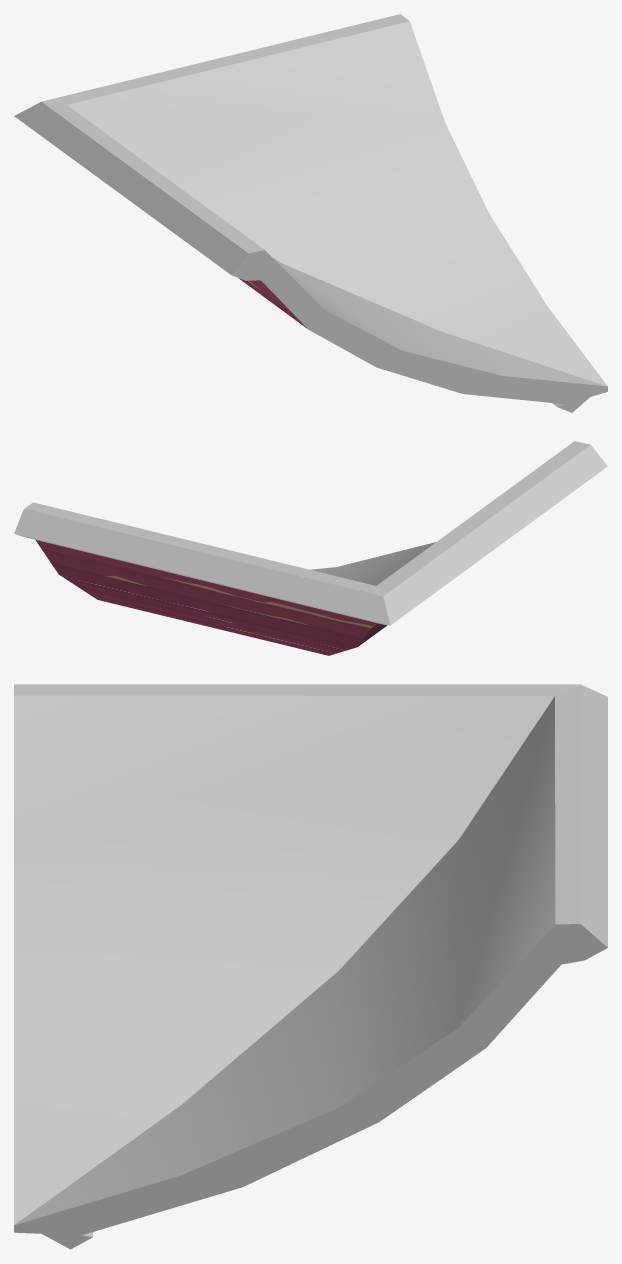
File: SM_Bld_Roof_M_Concave_Corner_In_01.fbx
The picture shows the model from 3 angles, top to bottom: view 1: azimuth 30°, elevation 25°; view 2: azimuth 150°, elevation 25°; view 3: azimuth 270°, elevation 25°; orthographic projection. The views are drawn at different scales.
Parts seen in each view (by area): view 1: SM_Bld_Roof_M_Concave_Corner_In_01; view 2: SM_Bld_Roof_M_Concave_Corner_In_01; view 3: SM_Bld_Roof_M_Concave_Corner_In_01.
Part boxes in pixels (bbox=[...]): SM_Bld_Roof_M_Concave_Corner_In_01: bbox=[14, 14, 607, 412]; SM_Bld_Roof_M_Concave_Corner_In_01: bbox=[14, 441, 607, 655]; SM_Bld_Roof_M_Concave_Corner_In_01: bbox=[14, 684, 607, 1249].
Bounding box in the file's own units: 262 × 158 × 262.
